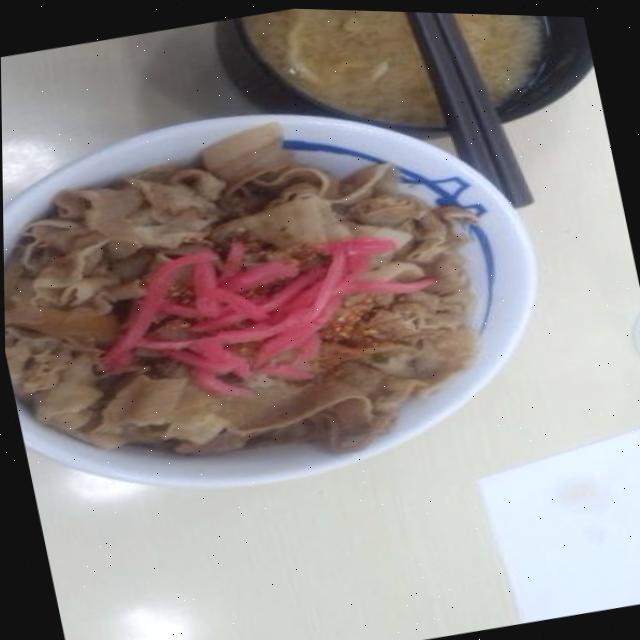汤锅炖物: (221, 5, 605, 181)
